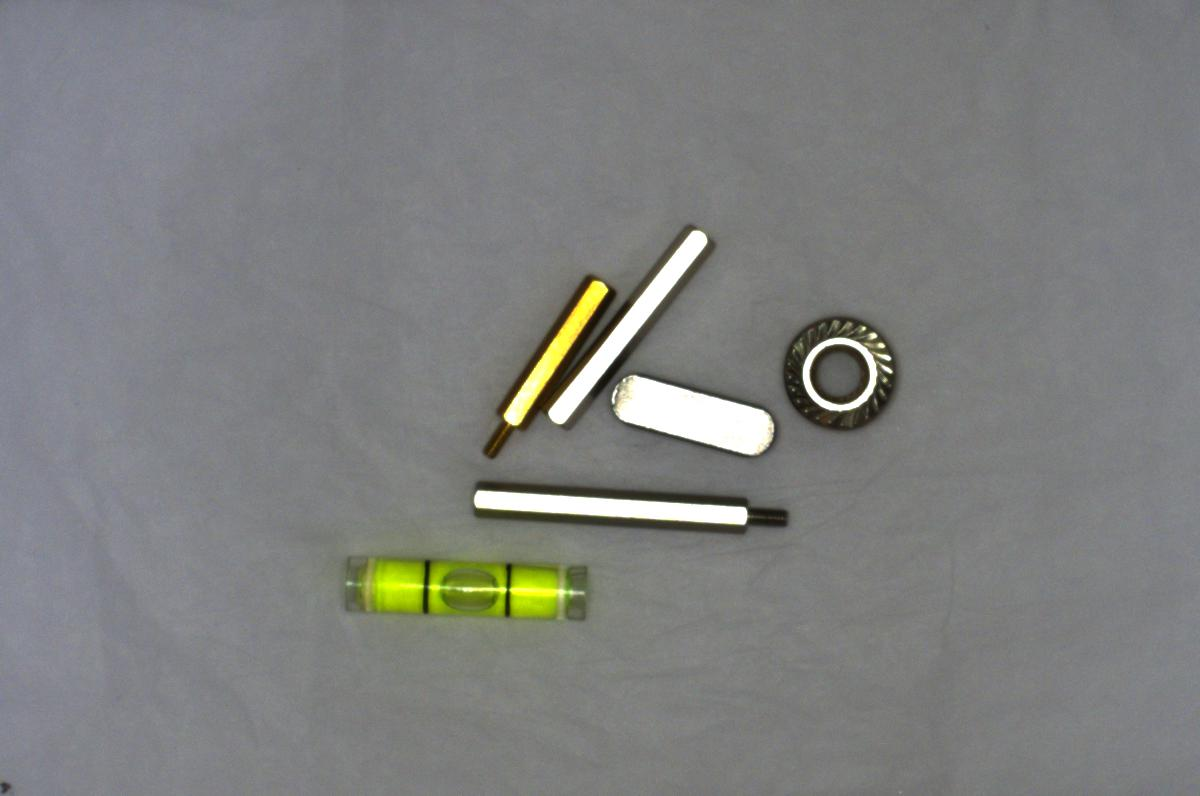Double hexagonal column: (538, 215, 717, 435)
Flange nut: (771, 295, 921, 439)
Hexagon pillar: (480, 269, 612, 465)
Hexagonal steel column: (464, 467, 792, 540)
Horizontal bubble: (333, 546, 605, 633)
Keybar: (600, 368, 785, 465)
